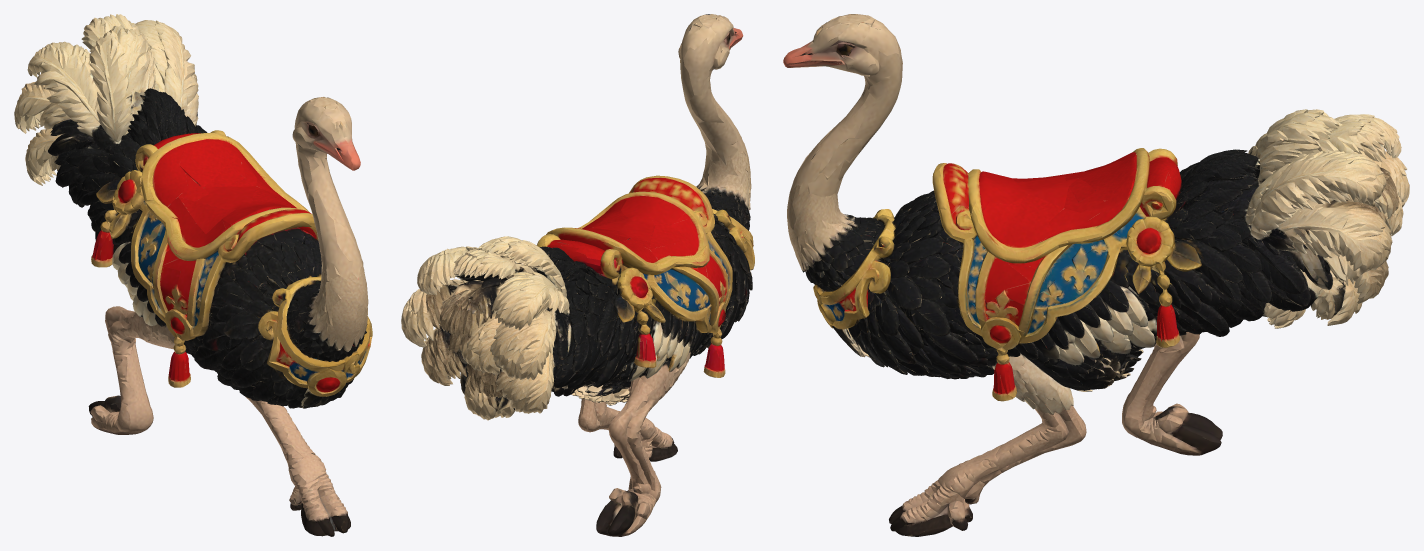
File: ostrich.glb
3 renders of one model, left to right at view 1: azimuth 30°, elevation 25°; view 2: azimuth 150°, elevation 25°; view 3: azimuth 270°, elevation 25°, orthographic. The views are drawn at different scales.
Bounding box in the file's own units: 0.7163 × 1.65 × 1.9.
1 material, 1 textured.
